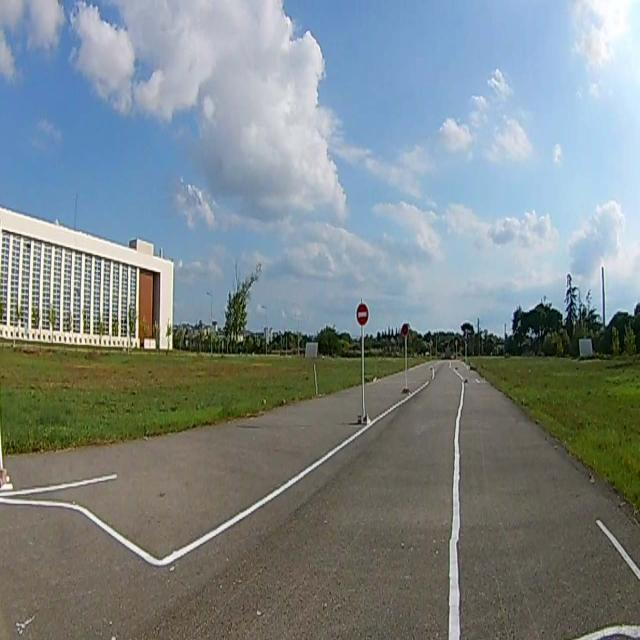girisyok: (357, 305, 367, 324)
